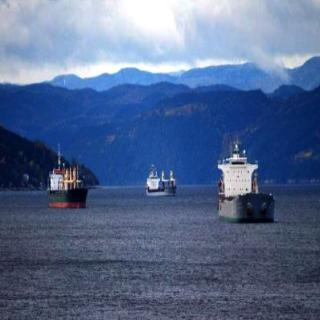Bulk Carrier: (216, 128, 276, 223)
